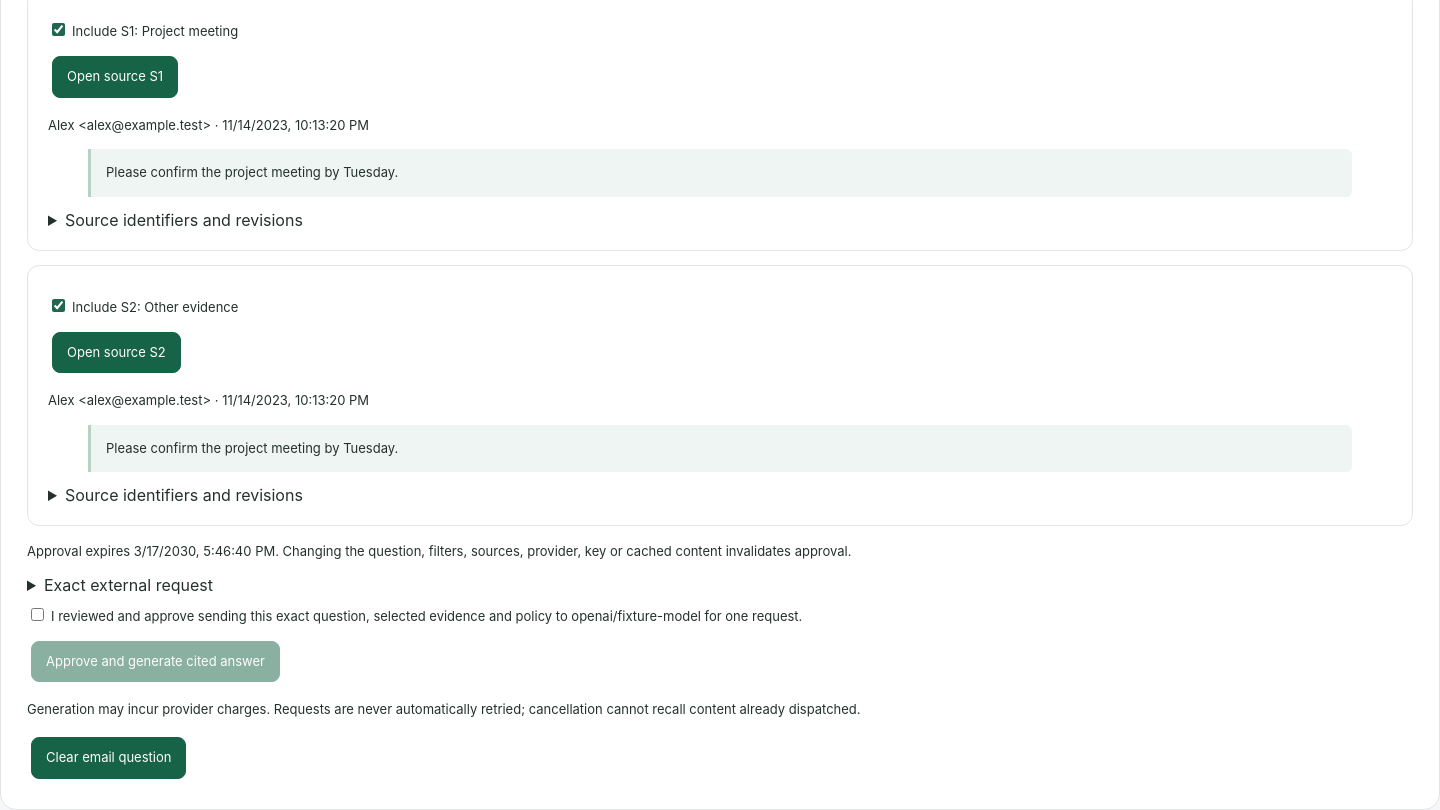
Test: source selection requires a new preview and resets approval
This screenshot has width=1440, height=810.
(page scrolled)
Expected: the checkbox labelled "Include S2: Other evidence" is shown, [52,299,65,312]
Click the checkbox labelled "I reviewed and approve sending" at (38,615), box [31,608,44,621]
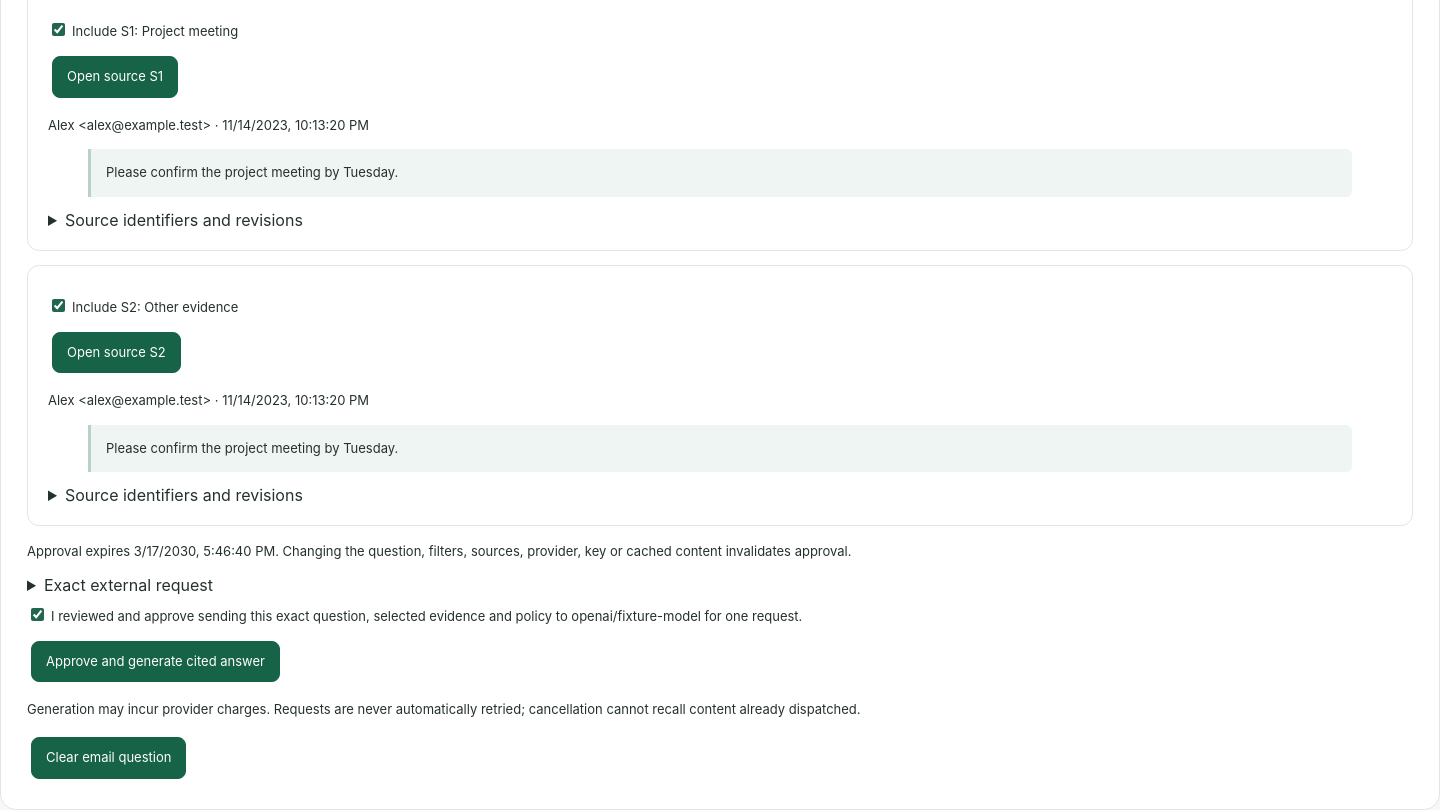
Click the checkbox labelled "Include S2: Other evidence" at (58,305), box [52,299,65,312]
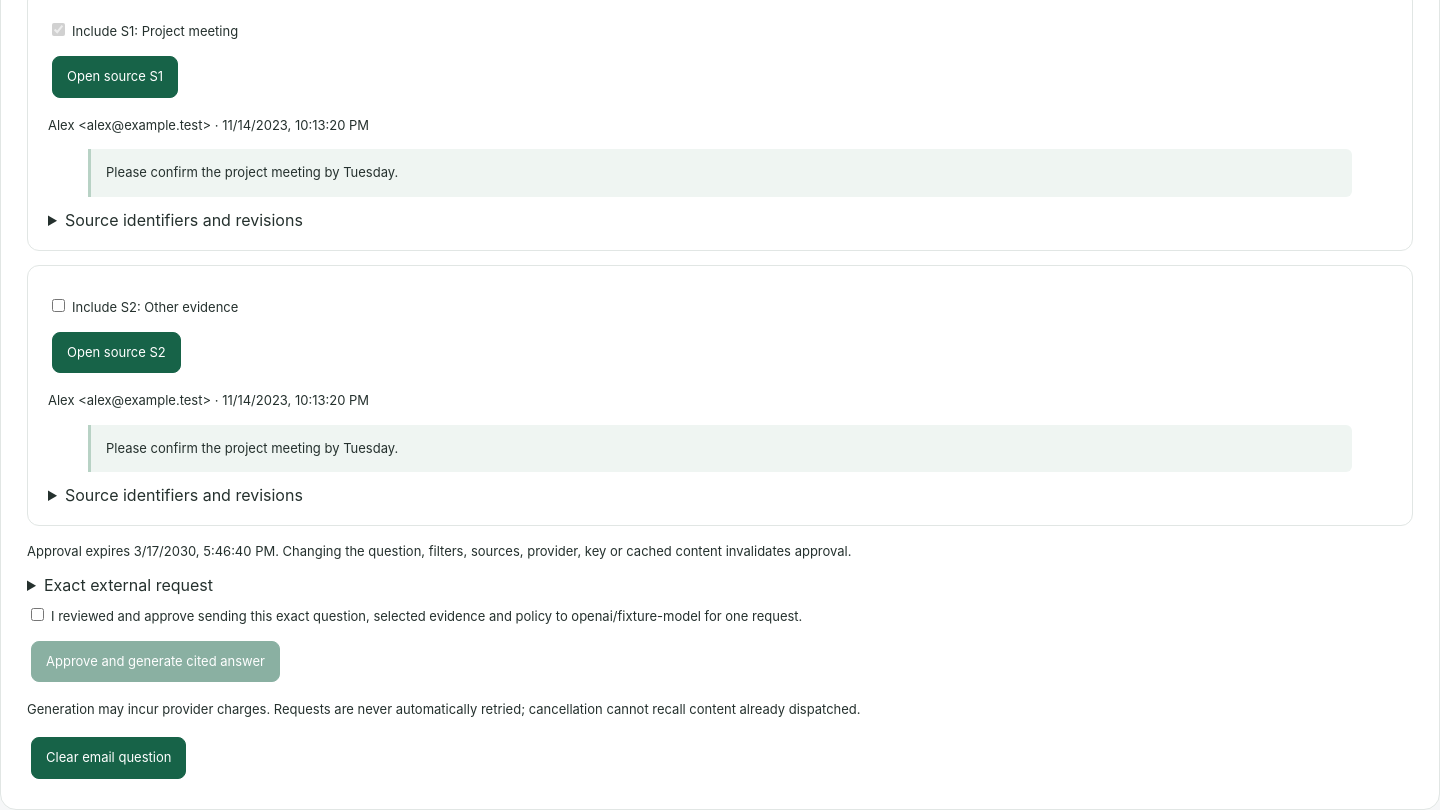
Expected: the checkbox labelled "I reviewed and approve sending" is not checked, [31,608,44,621]
Expected: the button "Approve and generate cited answer" is disabled, [31,641,280,682]
